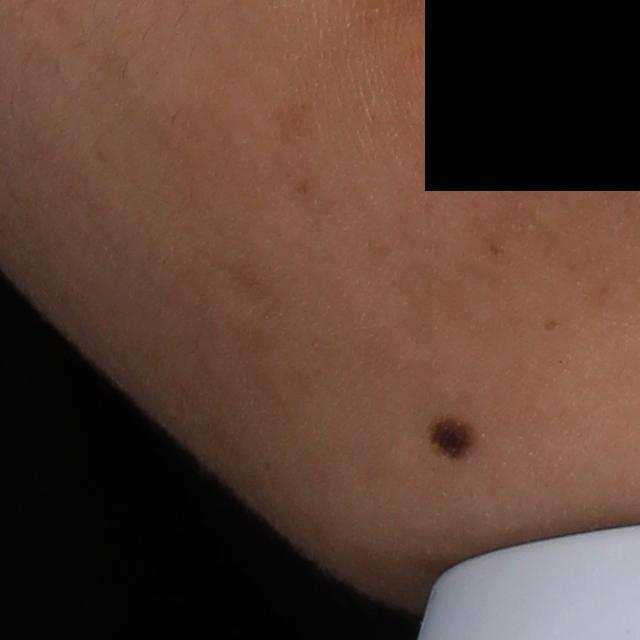melasma: (543, 321, 559, 334)
nevus: (422, 412, 482, 466)
